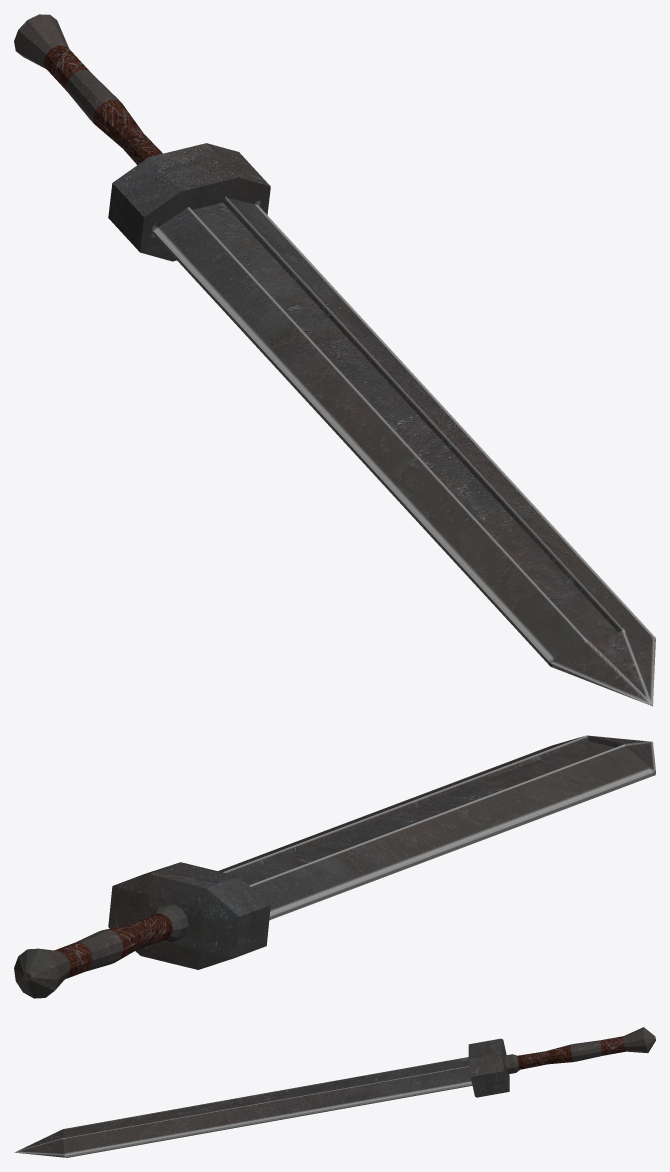
The model's file is GreatSword.fbx.
3 views of the same model, one above another, from view 1: azimuth 30°, elevation 25°; view 2: azimuth 150°, elevation 25°; view 3: azimuth 270°, elevation 25° (orthographic). The views are drawn at different scales.
Parts seen in each view (by area): view 1: Greatsword; view 2: Greatsword; view 3: Greatsword.
Part boxes in pixels (x1=…): Greatsword: x1=14, y1=14, x2=655, y2=706; Greatsword: x1=14, y1=735, x2=655, y2=998; Greatsword: x1=14, y1=1027, x2=655, y2=1157.
Bounding box in the file's own units: 3.42 × 6.29 × 29.26.
